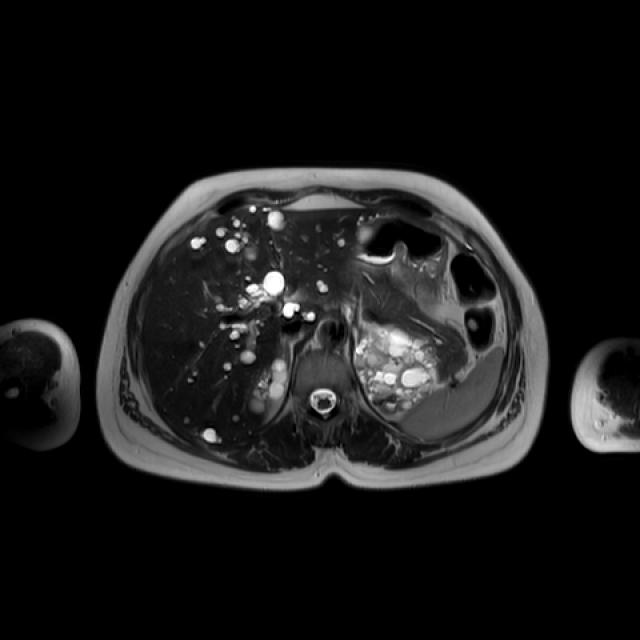sag: (249, 356, 288, 416)
sol: (354, 323, 440, 418)
